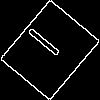I: (25, 24, 70, 65)
